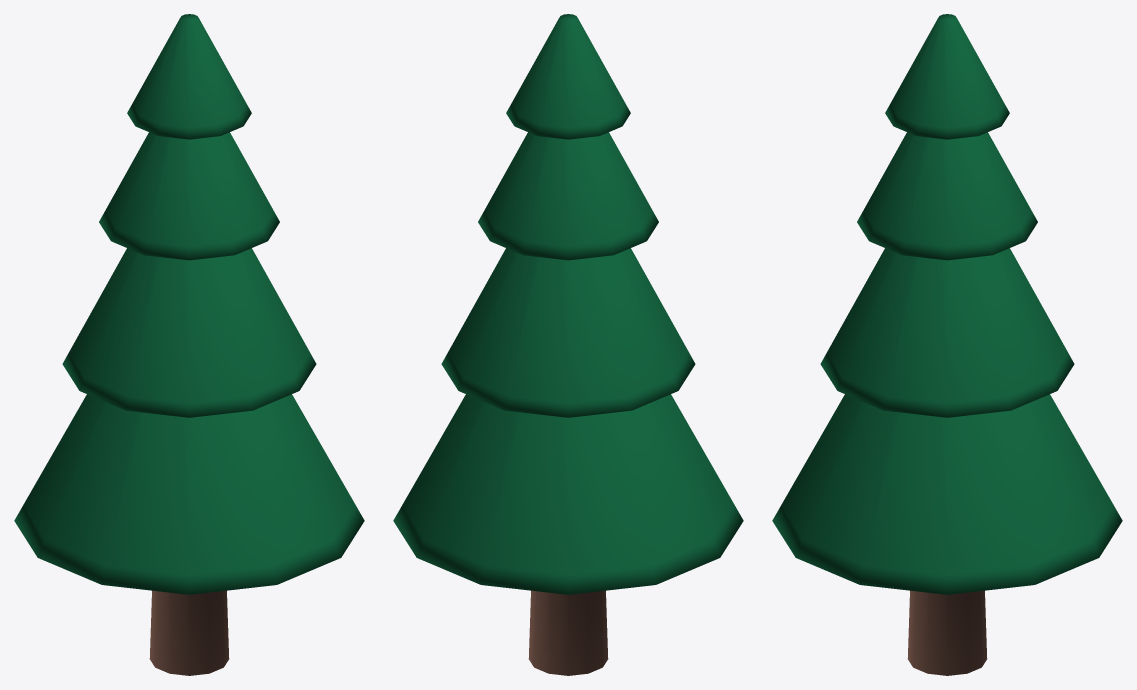
File: Spruce.fbx
The picture shows the model from 3 angles, left to right: view 1: azimuth 30°, elevation 25°; view 2: azimuth 150°, elevation 25°; view 3: azimuth 270°, elevation 25°; orthographic projection.
Visible parts, largest first — view 1: Cylinder; view 2: Cylinder; view 3: Cylinder.
Boxes of the visible parts, bbox=[...] form: Cylinder: bbox=[14, 14, 364, 675]; Cylinder: bbox=[393, 14, 743, 675]; Cylinder: bbox=[772, 14, 1122, 675].
Bounding box in the file's own units: 530 × 1069 × 530.
